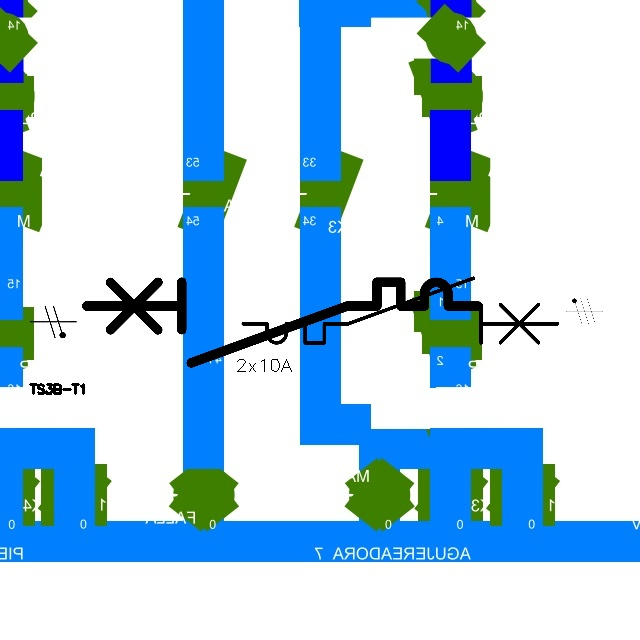interruptor_termomagnetico: (76, 272, 488, 372), (235, 270, 566, 351)
